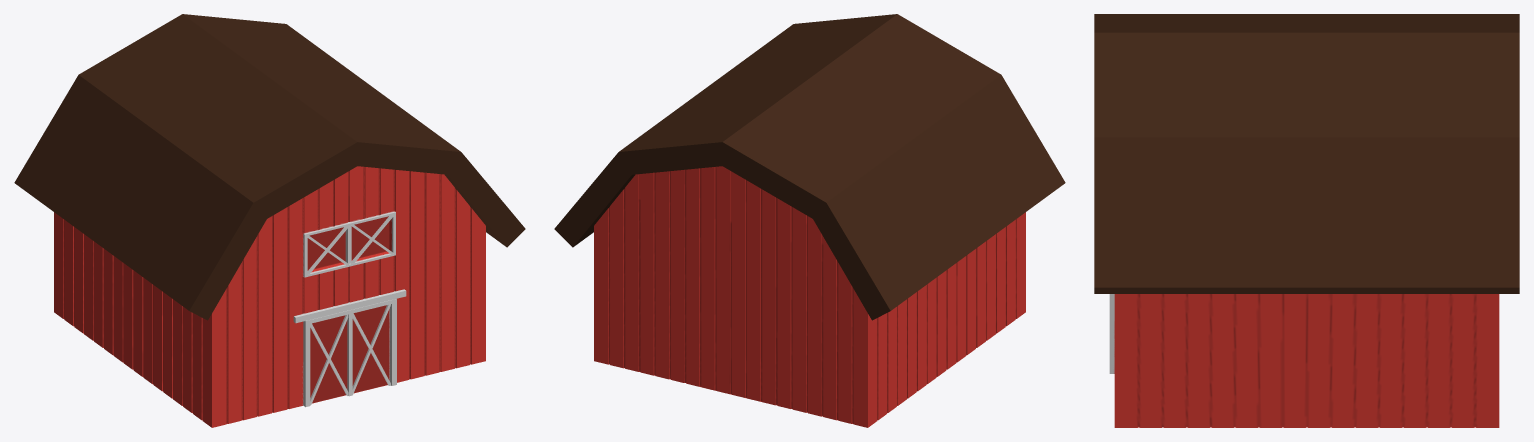
The model's file is Barn.fbx.
3 views of the same model, side by side, from view 1: azimuth 30°, elevation 25°; view 2: azimuth 150°, elevation 25°; view 3: azimuth 270°, elevation 25° (orthographic). The views are drawn at different scales.
Visible parts, largest first — view 1: Outer, Barn, Planks.010, Planks; view 2: Outer, Barn; view 3: Outer, Barn.
Part boxes in pixels (x1,y1,x2,y2): Outer: (14,14,525,320); Barn: (54,166,485,427); Planks.010: (293,289,406,323); Planks: (347,313,352,396); Outer: (554,14,1065,320); Barn: (594,166,1025,427); Outer: (1094,14,1519,293); Barn: (1109,294,1499,427).
Size of the model in its own units: 246 by 180 by 221.
